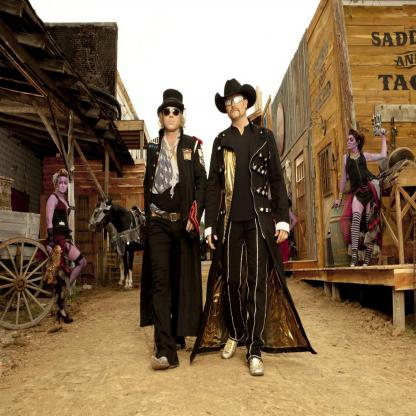face: (225, 92, 247, 120), (164, 104, 182, 131), (58, 176, 68, 194), (348, 135, 358, 150)
